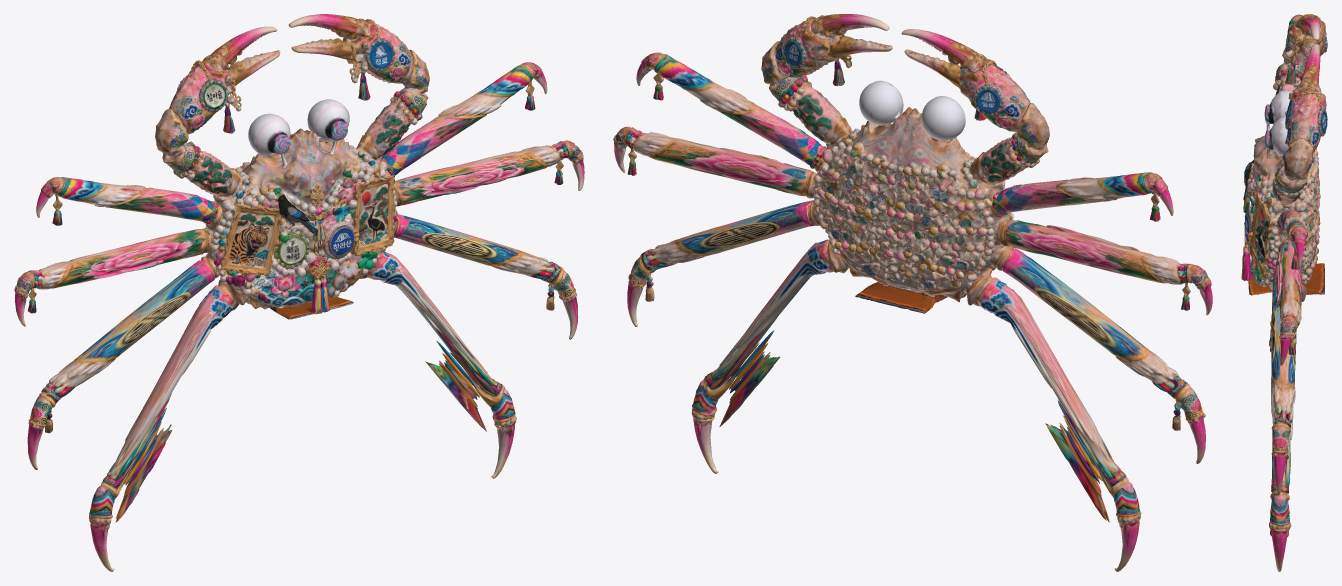
Rendered from sangsang-art-longleg-crab-detail.glb.
3 renders of one model, left to right at view 1: azimuth 30°, elevation 25°; view 2: azimuth 150°, elevation 25°; view 3: azimuth 270°, elevation 25°, orthographic. The views are drawn at different scales.
Parts seen in each view (by area): view 1: SangsangArt_LongLeg_Crab; view 2: SangsangArt_LongLeg_Crab; view 3: SangsangArt_LongLeg_Crab.
Part boxes in pixels (<box>): SangsangArt_LongLeg_Crab: <box>14,14,584,571</box>; SangsangArt_LongLeg_Crab: <box>613,14,1212,571</box>; SangsangArt_LongLeg_Crab: <box>1241,14,1327,571</box>.
Size of the model in its own units: 2.94 by 2.42 by 0.4221.
Materials: 1 (1 with a texture image).
